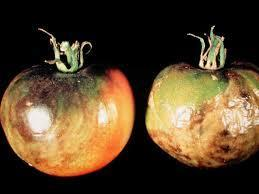tomato late blight: (1, 43, 137, 179), (146, 52, 259, 171)
